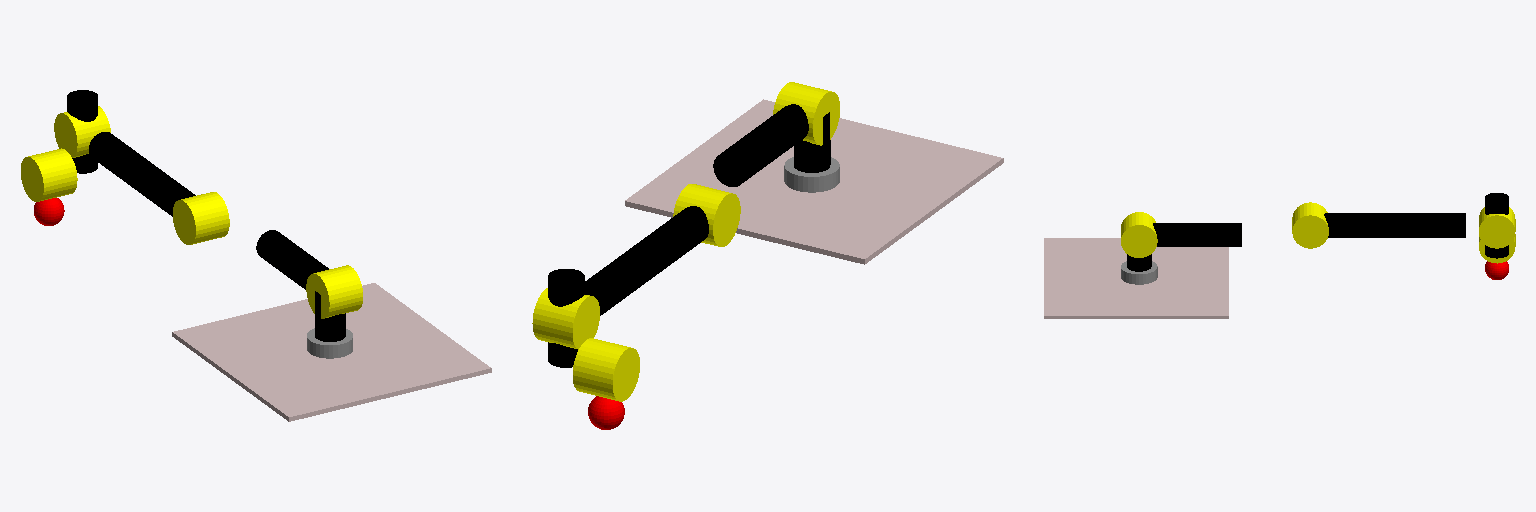
robot.urdf — fiveDOF:
<?xml version="1.0"?>

<robot name="fiveDOF">
  
  <!-- *************************************************** -->
  <!-- ******************** Kinematics ******************* -->
  <!-- *************************************************** -->
  <!-- Note the 'origin' tag in the joints defines the
       shift and reorientation before the continuous joint
       rotates around the 'axis'. -->

  <link name="world"/>

  <joint name="Thor/1" type="continuous">
    <parent link="world"/>
    <child  link="link1"/>
    <origin xyz="-0.052 -0.2125 0" rpy="0 0 0"/>
    <axis   xyz="0 0 1"/>
  </joint>

  <link name="link1"/>

  <joint name="Thor/6" type="continuous">
    <parent link="link1"/>
    <child  link="link2"/>
    <origin xyz="0.00695 0 .085" rpy="0 0 0"/>
    <axis   xyz="1 0 0"/>
  </joint>

  <link name="link2"/>

  <joint name="Thor/3" type="continuous">
    <parent link="link2"/>
    <child  link="link3"/>
    <!--<origin xyz="-.0368 .1651 0" rpy="0 0 0"/>-->
    <origin xyz="-.0368 .2794 0" rpy="0 0 0"/>
    <axis   xyz="-1 0 0"/>
  </joint>

  <link name="link3"/>

  <joint name="Thor/4" type="continuous">
    <parent link="link3"/>
    <child  link="link4"/>
    <origin xyz="0 .303993 0" rpy="0 0 0"/>
    <axis   xyz="1 0 0"/>
  </joint>

  <link name="link4"/>

  <joint name="Thor/2" type="continuous">
    <parent link="link4"/>
    <child  link="link5"/>
    <origin xyz="-.05 0 -.05" rpy="0 0 0"/>
    <axis   xyz="0 0 -1"/>
  </joint>

  <link name="link5"/>

  <joint name="shifttotip" type="fixed">
    <parent link="link5"/>
    <child  link="tip"/>
    <origin xyz="0 0 -.05" rpy="0 0 0"/>
  </joint>

  <link name="tip"/>

  <link name="map"/>
  <joint name="world_to_map" type="fixed">
    <parent link="world"/>
    <child link="map"/>
    <origin xyz="0 0 0" rpy="0 0 0"/>
  </joint>
  
  <!-- *************************************************** -->
  <!-- ********************* Graphics ******************** -->
  <!-- *************************************************** -->
  <!-- The following is purely to make this look roboticy. -->
  <!-- The 'origin' tag in the link/visual defines the
       center of the object (box, cylinder, sphere, mesh)
       but does not affect the joint chain kinematics. -->

  <!-- *************** Materials / Colors **************** -->

  <material name="white">    <color rgba="1.00 1.00 1.00 1"/>  </material>
  <material name="gray">     <color rgba="0.60 0.60 0.60 1"/>  </material>
  <material name="table">    <color rgba="0.85 0.77 0.77 1"/>  </material>
  <material name="black">    <color rgba="0.00 0.00 0.00 1"/>  </material>

  <material name="red">      <color rgba="1.00 0.00 0.00 1"/>  </material>
  <material name="green">    <color rgba="0.00 1.00 0.00 1"/>  </material>
  <material name="blue">     <color rgba="0.00 0.00 1.00 1"/>  </material>

  <material name="cyan">     <color rgba="0.00 1.00 1.00 1"/>  </material>
  <material name="magenta">  <color rgba="1.00 0.00 1.00 1"/>  </material>
  <material name="yellow">   <color rgba="1.00 1.00 0.00 1"/>  </material>

  <material name="orange">   <color rgba="1.00 0.65 0.00 1"/>  </material>


  <!-- *** Table - attached to world *** -->

  <joint name="attach-table" type="fixed">
    <parent link="world"/>
    <child  link="table"/>
  </joint>

  <link name="table">
    <visual>
      <origin xyz="-0.052 -0.217 .003175" rpy="0 0 0"/>
      <geometry>
	<box size=".3 .3 0.00635"/>
      </geometry>
      <material name="table"/>
    </visual>
  </link>

  <!-- *** Yaw Motor - attached to link 1 *** -->

  <joint name="attach-yawmotor" type="fixed">
    <parent link="link1"/>
    <child  link="yawmotor"/>
  </joint>

  <link name="yawmotor">
    <visual>
      <origin xyz="0 0 0" rpy="0 0 0"/>
      <geometry>
	<cylinder length="0.05" radius="0.03"/>
      </geometry>
      <material name="gray"/>
    </visual>
  </link>

  <!-- *** Link 1 Bar - attached to link1 (yaw joint output) *** -->

  <joint name="attach-link1bar" type="fixed">
    <parent link="link1"/>
    <child  link="link1bar"/>
  </joint>

  <link name="link1bar">
    <visual>
      <origin xyz="0 0 .045" rpy="0 0 0"/>
      <geometry>
	<cylinder length=".09" radius="0.02"/>
      </geometry>
      <material name="black"/>
    </visual>
  </link>

  <!-- *** Pitch 1 Motor - attached to link2 (yaw joint output) *** -->

  <joint name="attach-pitch1motor" type="fixed">
    <parent link="link2"/>
    <child  link="pitch1motor"/>
  </joint>

  <link name="pitch1motor">
    <visual>
      <origin xyz="0 0 0" rpy="0 1.5708 0"/>
      <geometry>
	<cylinder length="0.05" radius="0.03"/>
      </geometry>
      <material name="yellow"/>
    </visual>
  </link>

  <!-- *** Link 2 Bar - attached to link2 (pitch1 joint output) *** -->

  <joint name="attach-link2bar" type="fixed">
    <parent link="link2"/>
    <child  link="link2bar"/>
  </joint>

  <link name="link2bar">
    <visual>
      <origin xyz="0 .0835 0" rpy="-1.5708 0 0"/>
      <geometry>
	<cylinder length=".167" radius="0.02"/>
      </geometry>
      <material name="black"/>
    </visual>
  </link>

  <!-- *** Pitch 2 Motor - attached to link3 -->

  <joint name="attach-pitch2motor" type="fixed">
    <parent link="link3"/>
    <child  link="pitch2motor"/>
  </joint>

  <link name="pitch2motor">
    <visual>
      <origin xyz="0 0 0" rpy="0 1.5708 0"/>
      <geometry>
	<cylinder length="0.05" radius="0.03"/>
      </geometry>
      <material name="yellow"/>
    </visual>
  </link>

  <!-- *** Link 3 Bar - attached to link3 (pitch2 joint output) *** -->

  <joint name="attach-link3bar" type="fixed">
    <parent link="link3"/>
    <child  link="link3bar"/>
  </joint>

  <link name="link3bar">
    <visual>
      <origin xyz="0 .127 0" rpy="-1.5708 0 0"/>
      <geometry>
	<cylinder length=".254" radius="0.02"/>
      </geometry>
      <material name="black"/>
    </visual>
  </link>

  <!-- *** Pitch 3 Motor - attached to link4 (yaw joint output) *** -->

  <joint name="attach-pitch3motor" type="fixed">
    <parent link="link4"/>
    <child  link="pitch3motor"/>
  </joint>

  <link name="pitch3motor">
    <visual>
      <origin xyz="0 0 0" rpy="0 1.5708 0"/>
      <geometry>
	<cylinder length="0.05" radius="0.03"/>
      </geometry>
      <material name="yellow"/>
    </visual>
  </link>

  <!-- *** Link 4 Bar - attached to link4 (pitch joint output) *** -->

  <joint name="attach-link4bar" type="fixed">
    <parent link="link4"/>
    <child  link="link4bar"/>
  </joint>

  <link name="link4bar">
    <visual>
      <origin xyz="0 0 0" rpy="0 0 0"/>
      <geometry>
	<cylinder length=".1" radius="0.02"/>
      </geometry>
      <material name="black"/>
    </visual>
  </link>

  <!-- *** Pitch 4 Motor - attached to link5 (yaw joint output) *** -->

  <joint name="attach-pitch4motor" type="fixed">
    <parent link="link5"/>
    <child  link="pitch4motor"/>
  </joint>

  <link name="pitch4motor">
    <visual>
      <origin xyz="0 0 0" rpy="0 1.5708 0"/>
      <geometry>
	<cylinder length="0.05" radius="0.03"/>
      </geometry>
      <material name="yellow"/>
    </visual>
  </link>

  <!-- *** Tip Ball - attached to tip *** -->

  <joint name="attach-tipball" type="fixed">
    <parent link="tip"/>
    <child  link="tipball"/>
  </joint>

  <link name="tipball">
    <visual>
      <origin xyz="0 0 0" rpy="0 0 0"/>
      <geometry>
      	<sphere radius="0.02"/>
      </geometry>
      <material name="red"/>
    </visual>
  </link>

</robot>

--- Render facts (derived) ---
3 views of the same robot in one strip: view 1: azimuth 30°, elevation 25°; view 2: azimuth 150°, elevation 25°; view 3: azimuth 270°, elevation 25° (orthographic).
Robot: fiveDOF — 19 links, 18 joints (5 continuous, 13 fixed); root link world; default pose: every joint at zero.
Links seen in each view (by area): view 1: table, link3bar, pitch2motor, pitch4motor, pitch1motor, link2bar, pitch3motor, link4bar, link1bar, yawmotor, tipball; view 2: table, link3bar, link2bar, pitch4motor, pitch3motor, pitch2motor, pitch1motor, link4bar, yawmotor, link1bar, tipball; view 3: table, link3bar, link2bar, pitch2motor, pitch1motor, pitch3motor, link4bar, yawmotor.
Boxes of the visible links, <box> form: table: <box>172,283,491,421</box>; link3bar: <box>89,132,195,216</box>; pitch2motor: <box>173,192,229,244</box>; pitch4motor: <box>21,148,77,201</box>; pitch1motor: <box>306,265,362,318</box>; link2bar: <box>256,230,328,289</box>; pitch3motor: <box>54,106,110,157</box>; link4bar: <box>67,90,97,173</box>; link1bar: <box>315,291,345,341</box>; yawmotor: <box>307,328,352,358</box>; tipball: <box>34,198,64,225</box>; table: <box>625,99,1003,264</box>; link3bar: <box>585,206,708,315</box>; link2bar: <box>713,104,808,186</box>; pitch4motor: <box>573,338,639,401</box>; pitch3motor: <box>532,288,599,349</box>; pitch2motor: <box>673,184,740,246</box>; pitch1motor: <box>773,82,839,145</box>; link4bar: <box>548,269,584,367</box>; yawmotor: <box>784,157,839,192</box>; link1bar: <box>794,112,830,172</box>; tipball: <box>588,396,624,429</box>; table: <box>1044,238,1228,318</box>; link3bar: <box>1324,213,1465,237</box>; link2bar: <box>1153,223,1241,246</box>; pitch2motor: <box>1292,202,1328,248</box>; pitch1motor: <box>1121,212,1157,257</box>; pitch3motor: <box>1479,207,1515,248</box>; link4bar: <box>1485,193,1508,258</box>; yawmotor: <box>1121,261,1157,284</box>.
Bounding box of the posed robot: 0.3 × 0.7679 × 0.17 m (x, y, z).
Geometry: primitives only (box / cylinder / sphere), no mesh files.